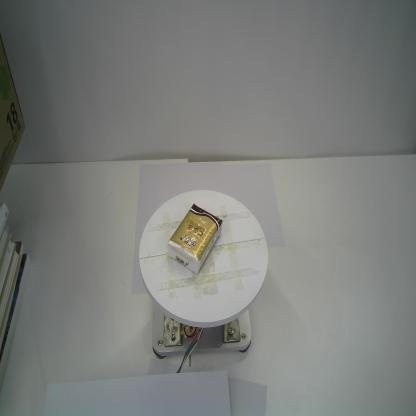Tissue: (168, 204, 223, 275)
